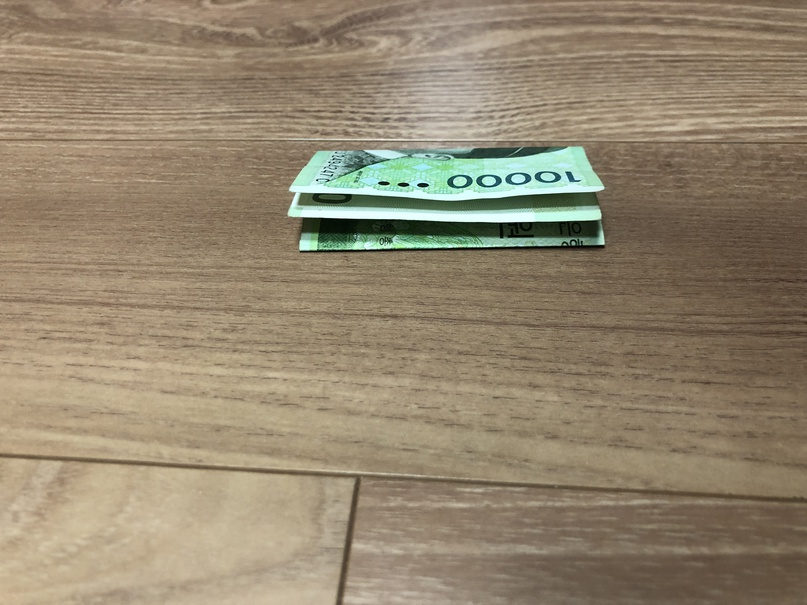10000won: (288, 146, 604, 254)
